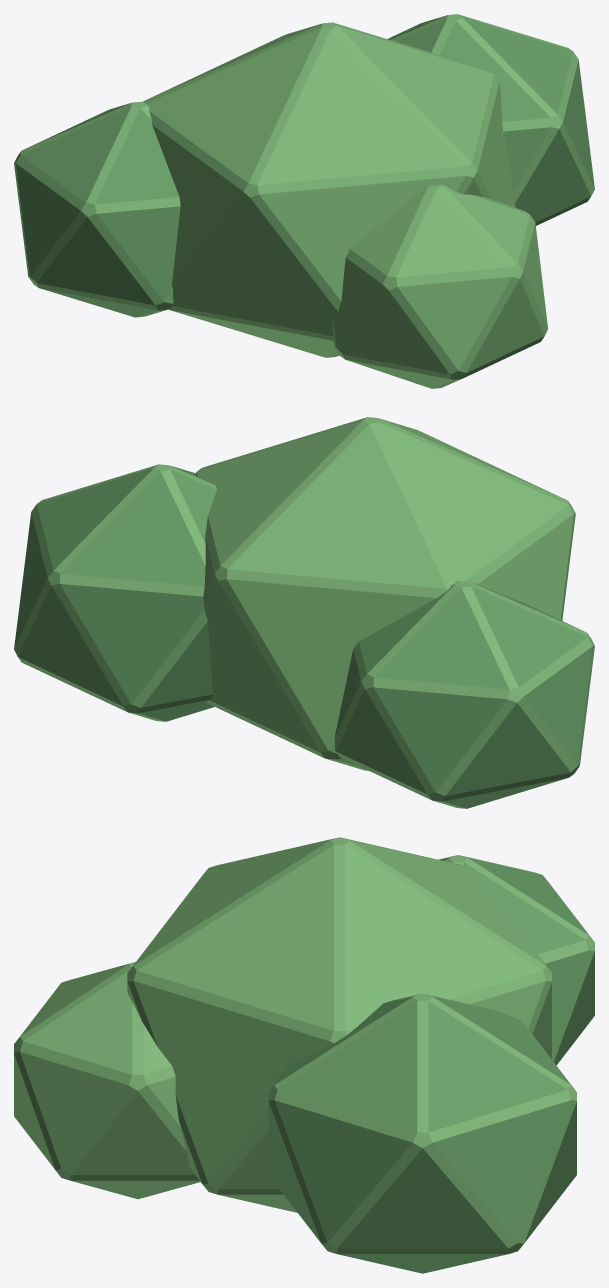
3 renders of one model, top to bottom at view 1: azimuth 30°, elevation 25°; view 2: azimuth 150°, elevation 25°; view 3: azimuth 270°, elevation 25°, orthographic. The views are drawn at different scales.
Parts seen in each view (by area): view 1: 灌木体.001; view 2: 灌木体.001; view 3: 灌木体.001.
Boxes of the visible parts, x1,y1,x2,y2 form: 灌木体.001: (14,14,594,388); 灌木体.001: (14,417,594,808); 灌木体.001: (14,837,594,1273).
Bounding box in the file's own units: 237 × 140 × 196.
